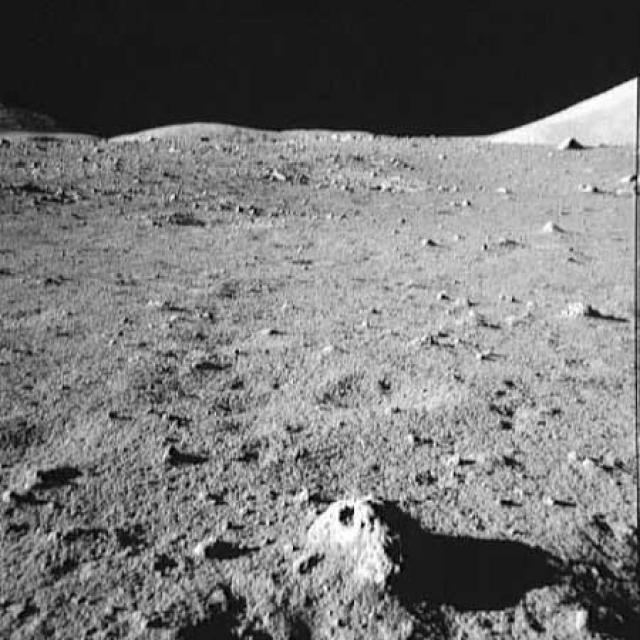crater: (157, 206, 254, 231)
rock: (296, 484, 436, 581), (560, 289, 600, 325), (544, 131, 594, 154)
